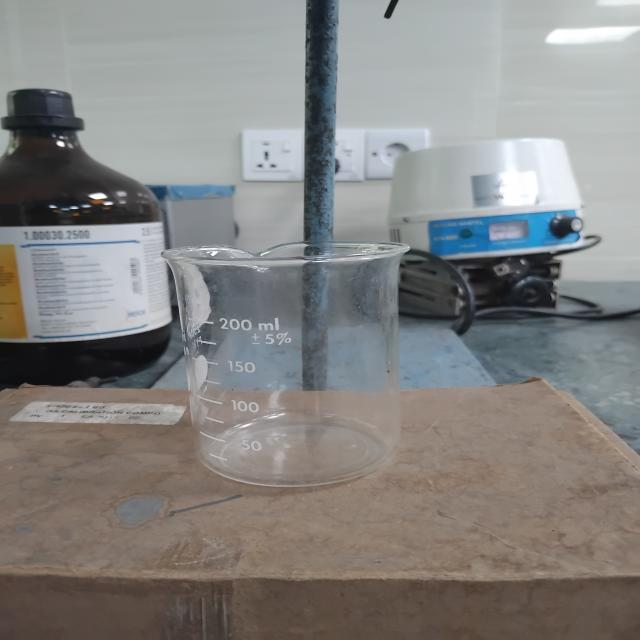Beaker: (128, 205, 460, 524)
